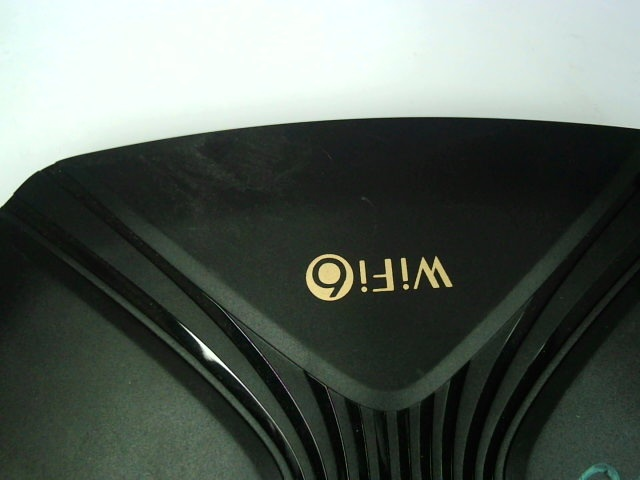AK_ZTEWIFI6Black: (281, 235, 460, 301)
